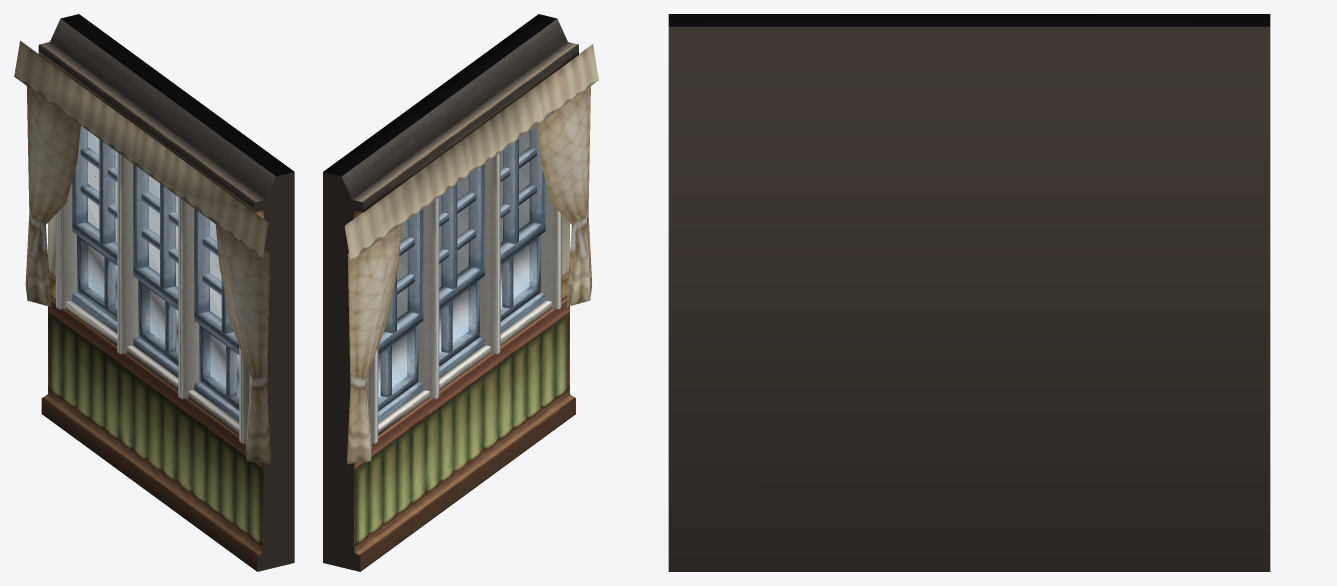
File: a_SWIwall02_05.glb
3 views of the same model, side by side, from view 1: azimuth 30°, elevation 25°; view 2: azimuth 150°, elevation 25°; view 3: azimuth 270°, elevation 25° (orthographic). The views are drawn at different scales.
Visible parts, largest first — view 1: a_SWIwall02_05; view 2: a_SWIwall02_05; view 3: a_SWIwall02_05.
Part boxes in pixels (x1=…): a_SWIwall02_05: x1=14, y1=14, x2=294, y2=571; a_SWIwall02_05: x1=323, y1=14, x2=598, y2=571; a_SWIwall02_05: x1=668, y1=14, x2=1270, y2=571.
Size of the model in its own units: 0.4003 by 3 by 3.47.
Materials: 2 (2 with a texture image).
